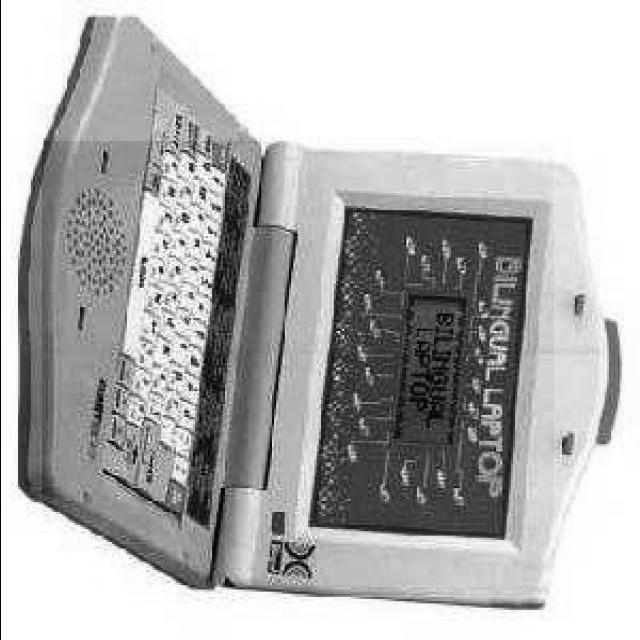-keyboard-: (42, 142, 554, 596)
